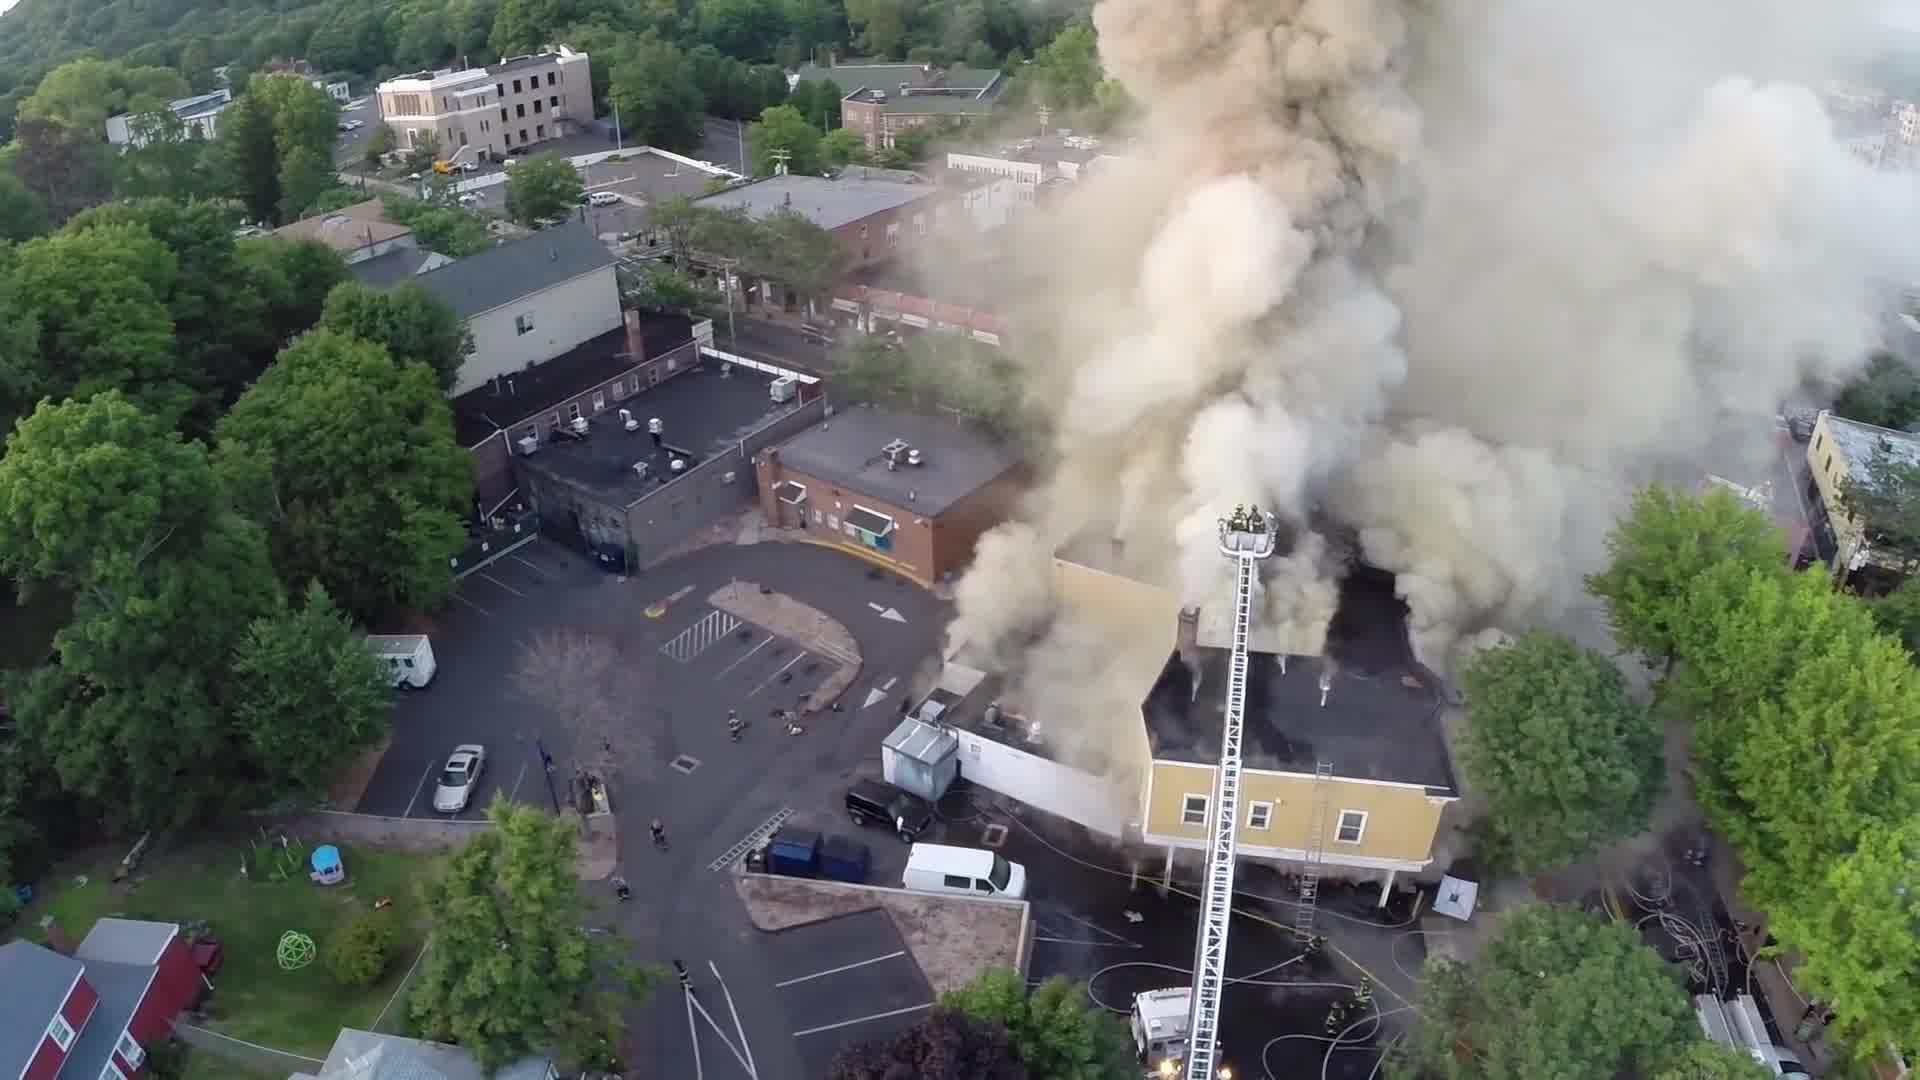smoke: (1110, 11, 1846, 531)
